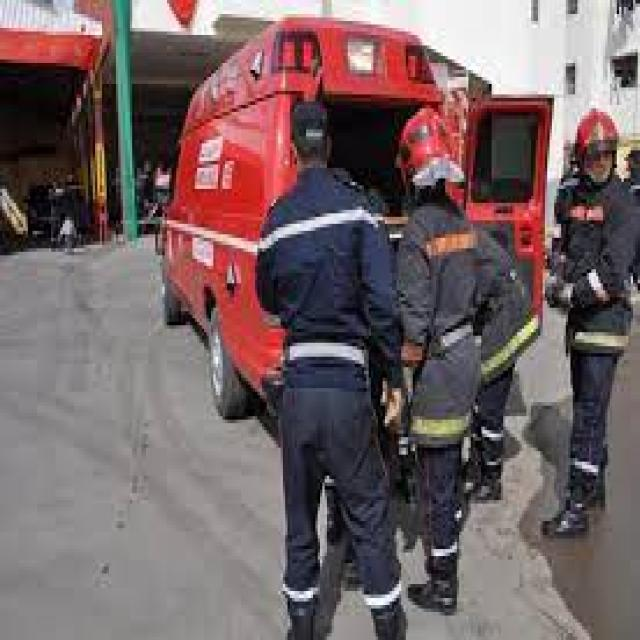ambulance: (159, 29, 553, 428)
